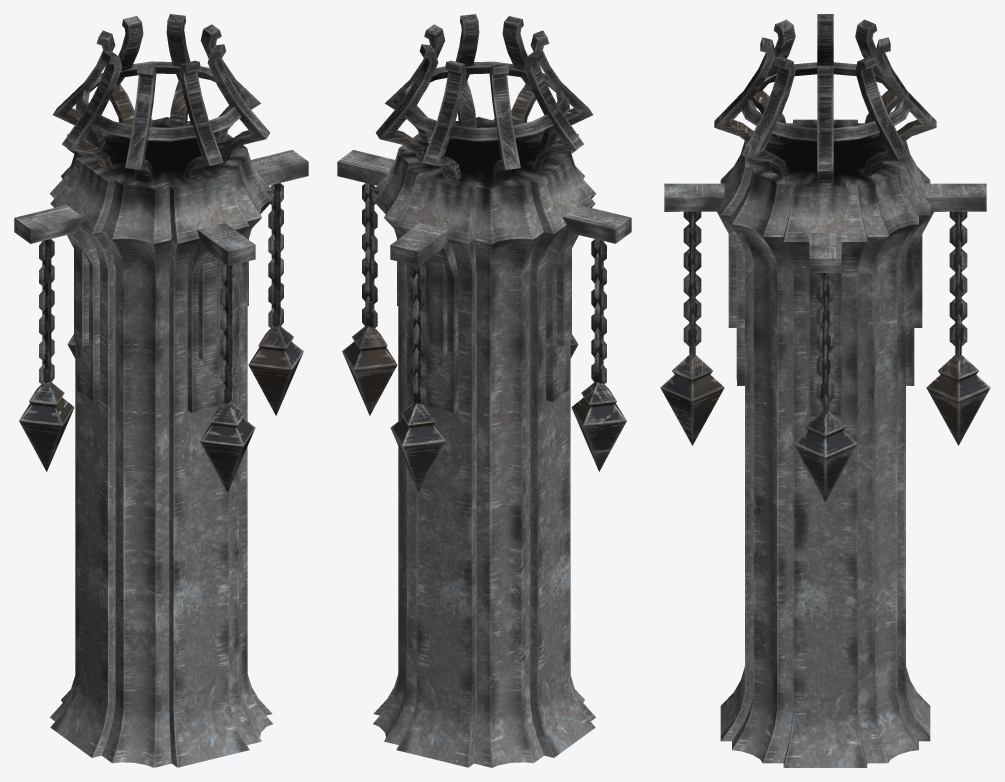
Rendered from column_b.FBX.
3 views of the same model, side by side, from view 1: azimuth 30°, elevation 25°; view 2: azimuth 150°, elevation 25°; view 3: azimuth 270°, elevation 25° (orthographic).
Visible parts, largest first — view 1: Column, Line016, Line015, Circle002, Line038, Line042, Line018, Line030, Line028, Line029, Line031, Rectangle096 (+9 smaller); view 2: Column, Line014, Line015, Circle002, Line039, Line042, Line018, Line034, Line028, Line027, Line033, Rectangle096 (+9 smaller); view 3: Column, Line013, Line014, Line016, Line018, Line038, Line039, Circle002, Line031, Line033, Rectangle060, Rectangle048 (+9 smaller).
Part boxes in pixels (x1,y1,x2,y2): Column: [50, 117, 272, 767]; Line016: [187, 223, 255, 413]; Line015: [14, 205, 99, 401]; Circle002: [75, 61, 247, 141]; Line038: [200, 402, 255, 492]; Line042: [19, 382, 74, 471]; Line018: [248, 326, 303, 415]; Line030: [179, 60, 223, 179]; Line028: [62, 51, 122, 170]; Line029: [125, 63, 156, 181]; Line031: [207, 44, 270, 163]; Rectangle096: [39, 239, 54, 384]; Column: [373, 117, 595, 767]; Line014: [390, 223, 458, 413]; Line015: [546, 205, 631, 401]; Circle002: [398, 61, 570, 141]; Line039: [390, 402, 445, 492]; Line042: [571, 382, 626, 471]; Line018: [342, 326, 397, 415]; Line034: [422, 60, 466, 179]; Line028: [523, 51, 583, 170]; Line027: [489, 63, 520, 181]; Line033: [375, 44, 438, 163]; Rectangle096: [591, 239, 606, 384]; Column: [720, 119, 930, 767]; Line013: [809, 233, 841, 416]; Line014: [906, 183, 986, 385]; Line016: [664, 183, 744, 385]; Line018: [793, 411, 857, 501]; Line038: [660, 355, 724, 445]; Line039: [926, 355, 990, 445]; Circle002: [740, 62, 910, 141]; Line031: [741, 56, 795, 176]; Line033: [855, 56, 909, 176]; Rectangle060: [949, 211, 967, 358]; Rectangle048: [683, 211, 701, 358].
Bounding box in the file's own units: 205 × 467 × 205.
